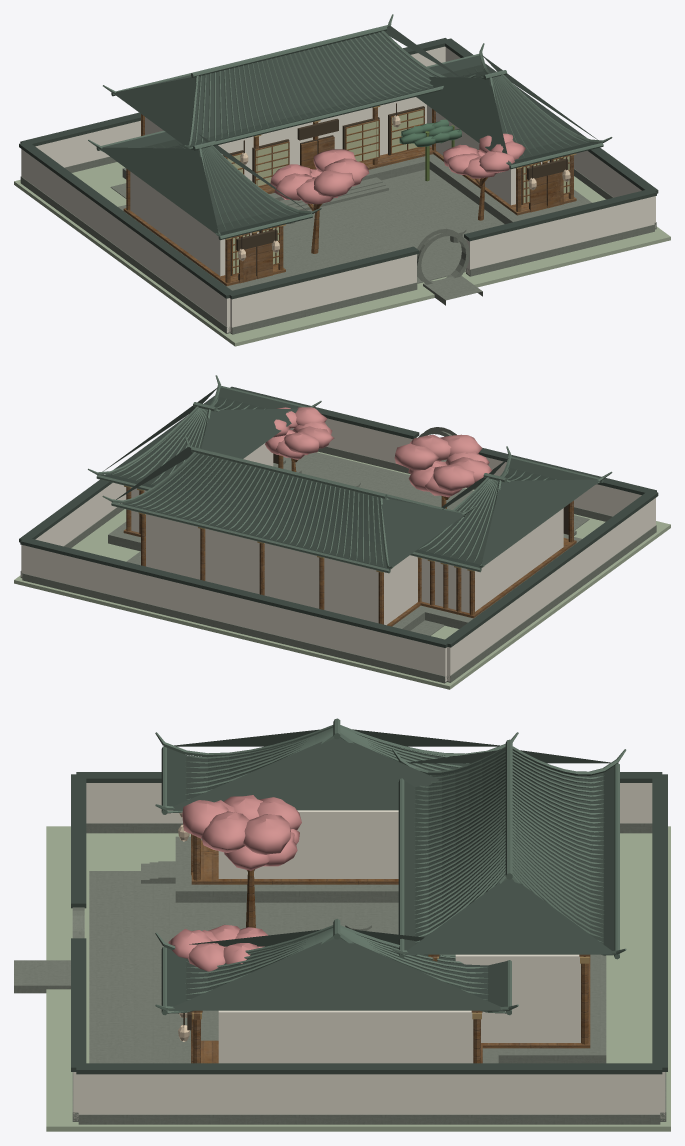
Rendered from yihongyuan.glb.
The picture shows the model from 3 angles, top to bottom: view 1: azimuth 30°, elevation 25°; view 2: azimuth 150°, elevation 25°; view 3: azimuth 270°, elevation 25°; orthographic projection. The views are drawn at different scales.
Visible parts, largest first — view 1: yihongyuan_roof, yihongyuan_plaster, yihongyuan_stone, yihongyuan_tile, yihongyuan_wood, yihongyuan_earth, yihongyuan_flower, yihongyuan_paper, yihongyuan_darkwood, yihongyuan_leaf, yihongyuan_creamflower; view 2: yihongyuan_plaster, yihongyuan_roof, yihongyuan_tile, yihongyuan_stone, yihongyuan_flower, yihongyuan_earth, yihongyuan_wood; view 3: yihongyuan_roof, yihongyuan_plaster, yihongyuan_stone, yihongyuan_tile, yihongyuan_earth, yihongyuan_flower, yihongyuan_wood.
Part boxes in pixels (x1,y1,x2,y2): yihongyuan_roof: (19, 25, 658, 299); yihongyuan_plaster: (21, 46, 655, 332); yihongyuan_stone: (20, 154, 656, 334); yihongyuan_tile: (88, 14, 612, 240); yihongyuan_wood: (123, 107, 576, 286); yihongyuan_earth: (14, 162, 670, 346); yihongyuan_flower: (270, 133, 525, 204); yihongyuan_paper: (227, 110, 569, 273); yihongyuan_darkwood: (223, 103, 568, 279); yihongyuan_leaf: (399, 119, 461, 146); yihongyuan_creamflower: (238, 115, 570, 260); yihongyuan_plaster: (21, 418, 655, 681); yihongyuan_roof: (19, 386, 658, 647); yihongyuan_tile: (88, 375, 612, 573); yihongyuan_stone: (20, 427, 656, 683); yihongyuan_flower: (265, 407, 492, 497); yihongyuan_earth: (14, 451, 670, 689); yihongyuan_wood: (123, 455, 576, 626); yihongyuan_roof: (71, 729, 667, 1074); yihongyuan_plaster: (73, 783, 665, 1120); yihongyuan_stone: (14, 823, 666, 1124); yihongyuan_tile: (155, 718, 626, 1015); yihongyuan_earth: (46, 826, 670, 1131); yihongyuan_flower: (168, 795, 301, 971); yihongyuan_wood: (191, 834, 590, 1063).
Size of the model in its own units: 33 by 9.02 by 30.5.
Materials: 13 (2 with a texture image).
